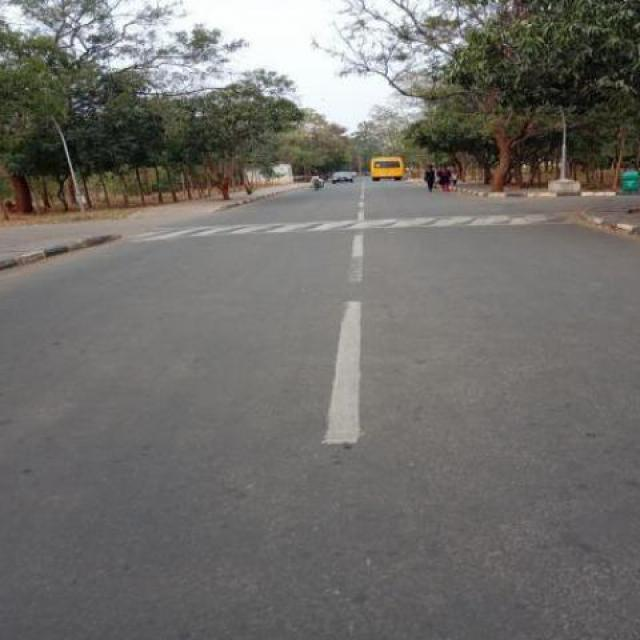Speed Bump: (133, 212, 590, 243)
